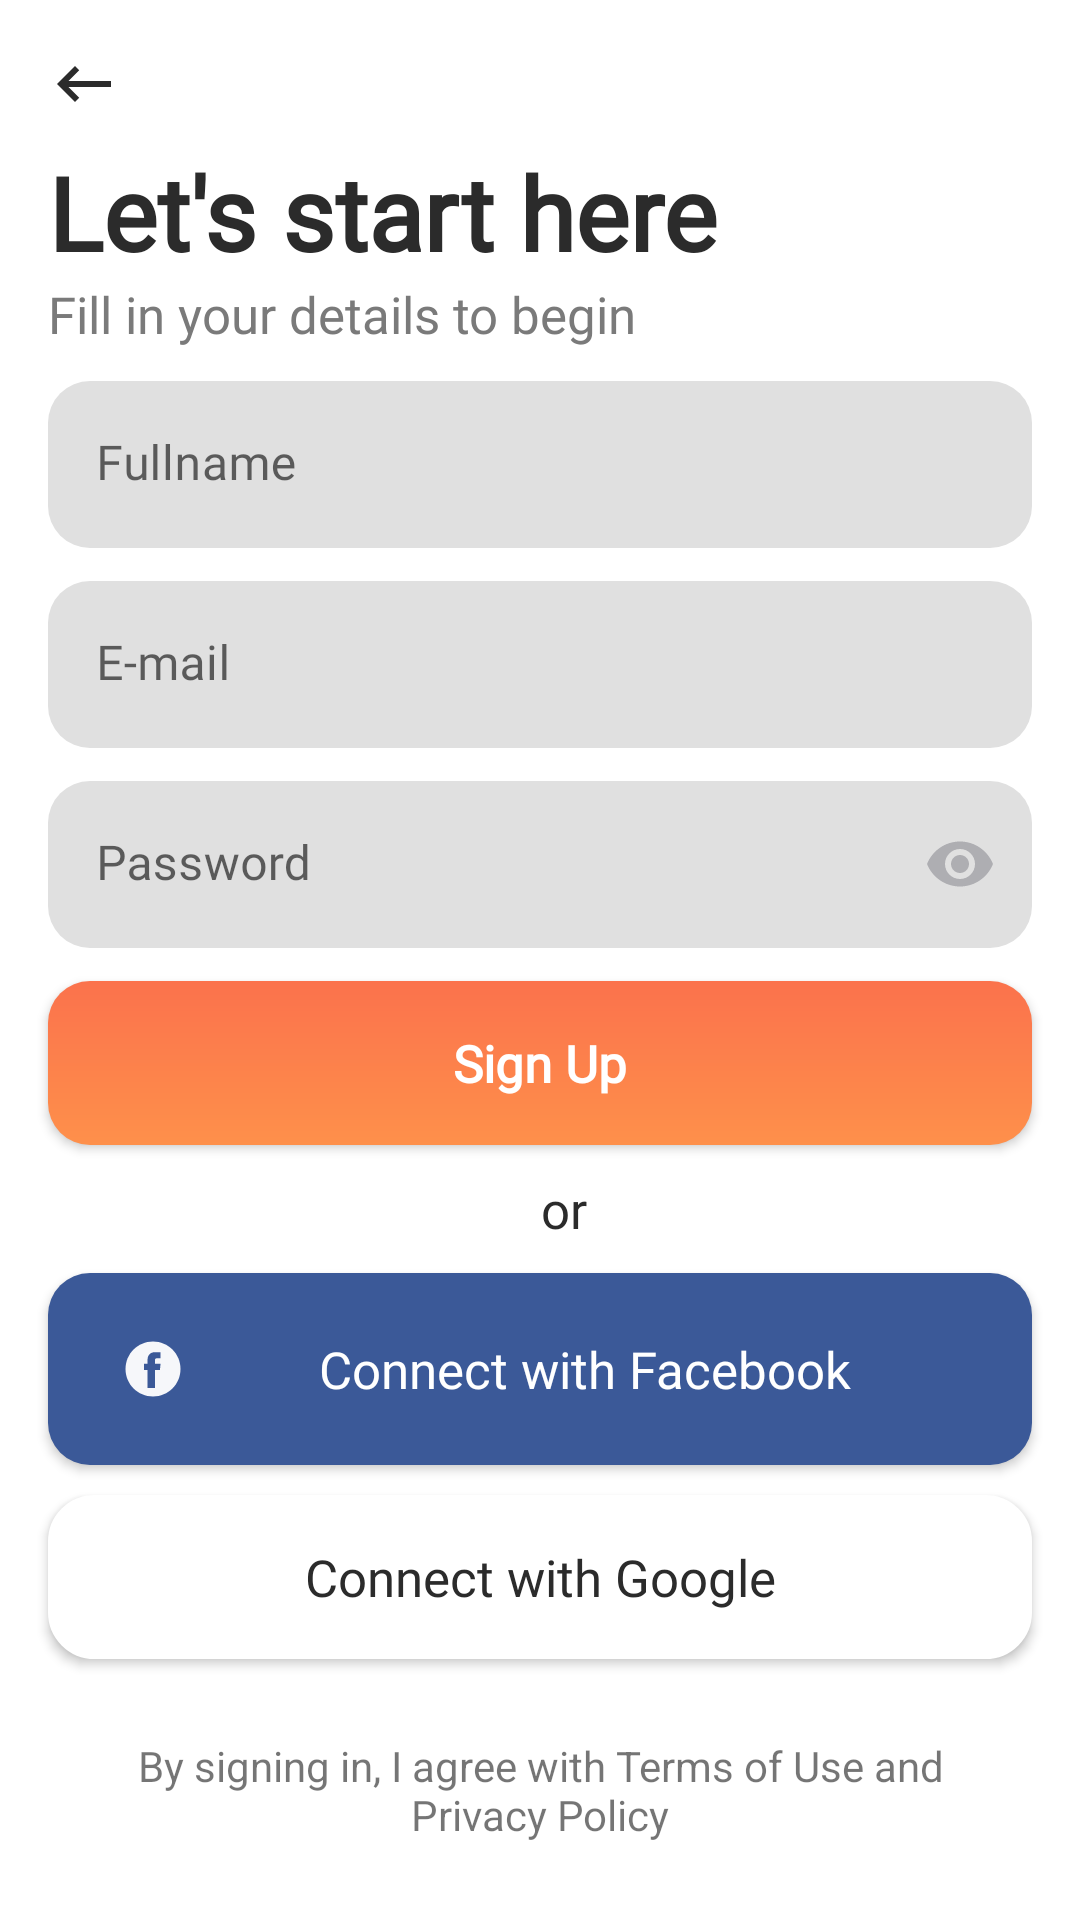

Screen size 1080x1920. Icon name, then its box in pixels as (left=x1, top=y1, right=x2, bottom=y2):
back: (left=57, top=66, right=111, bottom=102)
